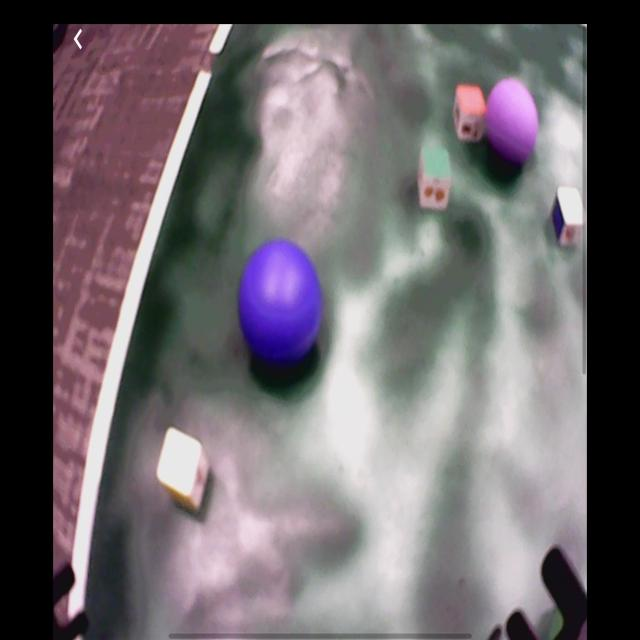ball: (238, 241, 323, 363), (486, 79, 538, 162)
